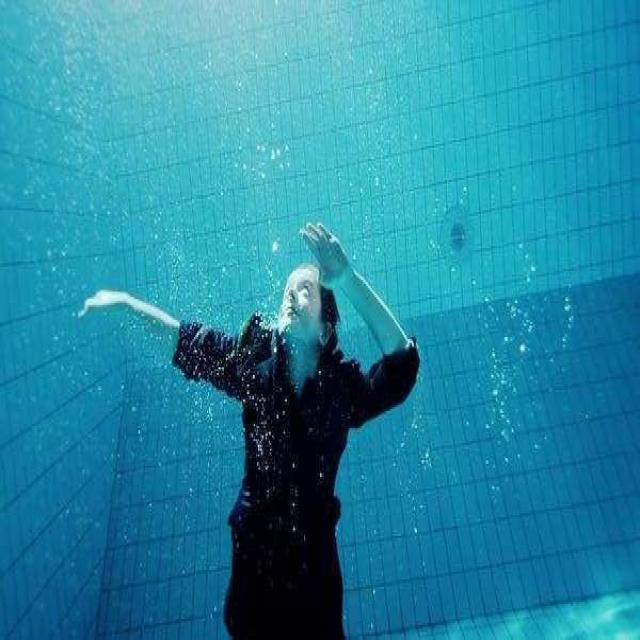drowning: (72, 136, 510, 640)
